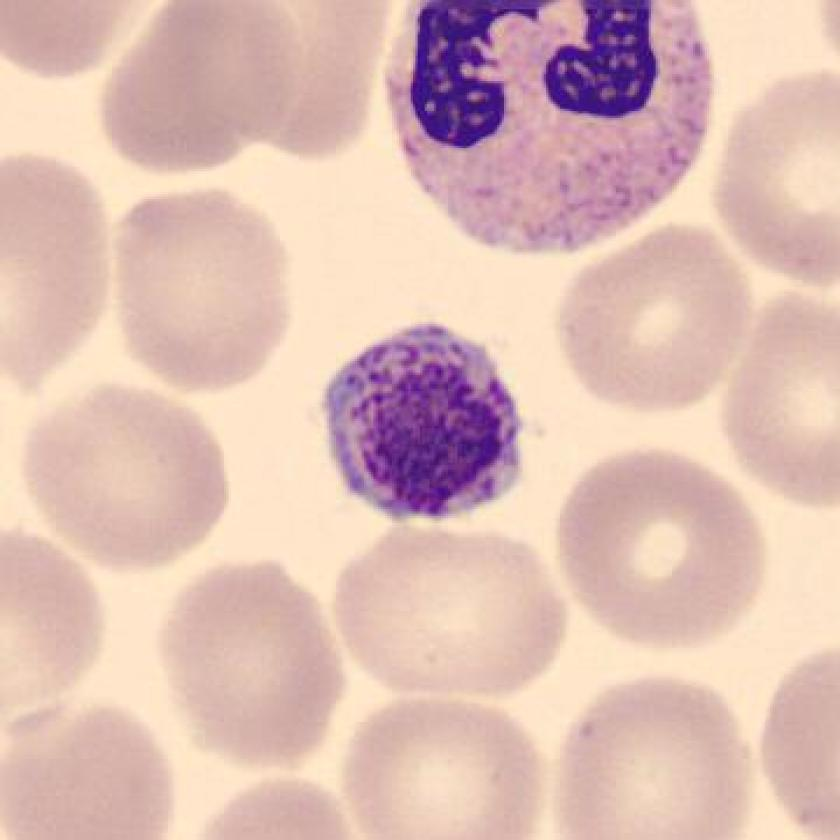platelets: (323, 325, 533, 526)
